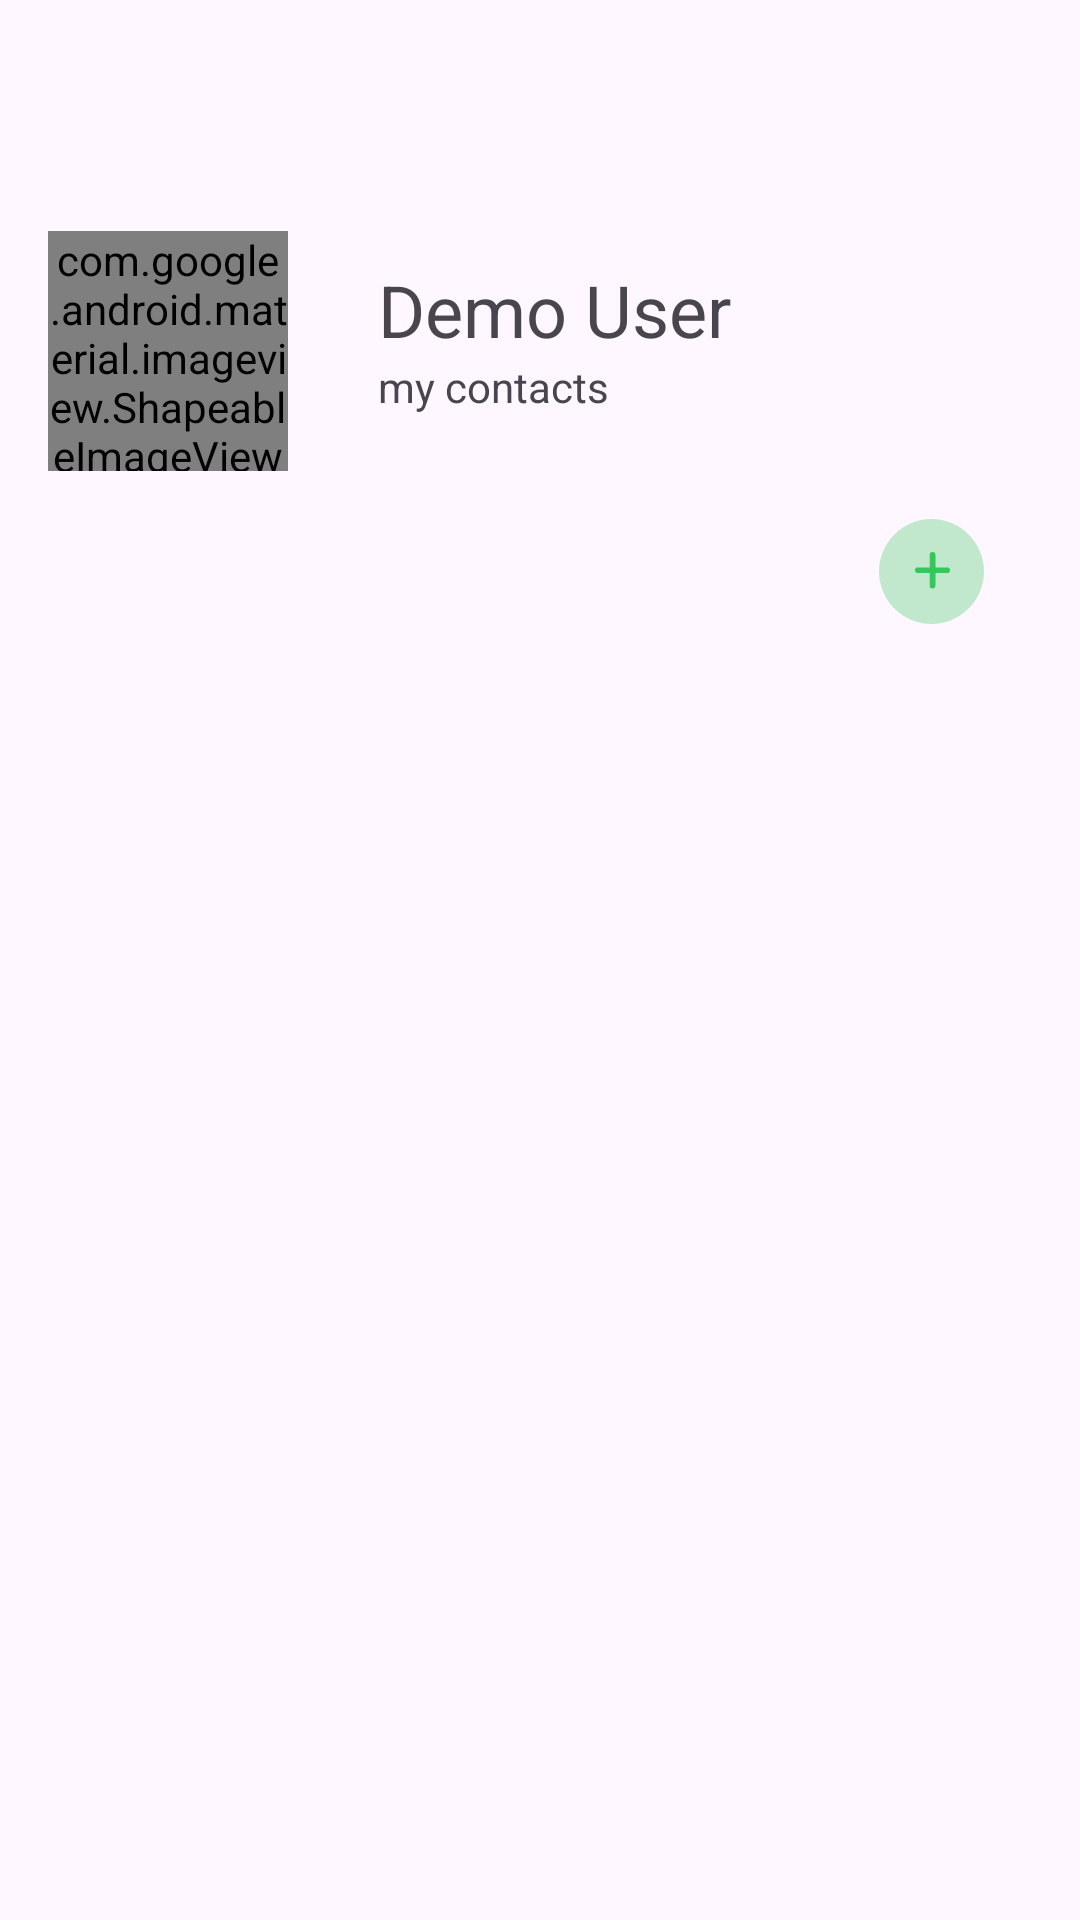

Named icons in this screenshot (1080 × 1920) and their bounding boxes, box(x1, y1, x2, y2):
add: box(879, 519, 984, 624)
